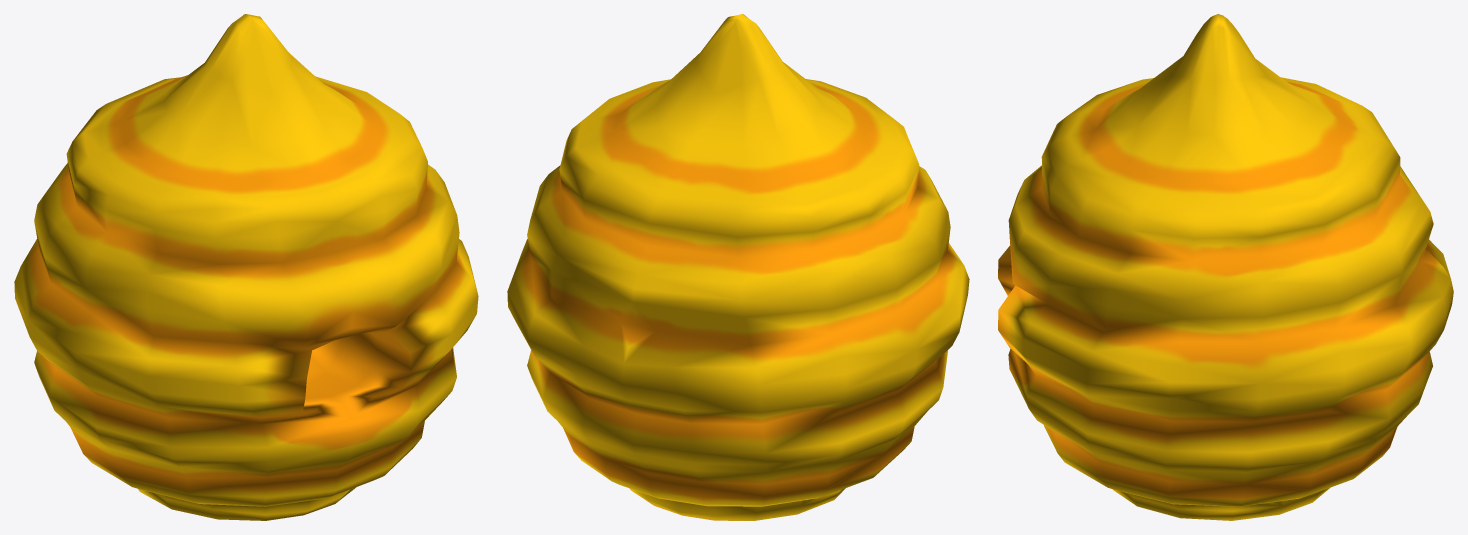
The model's file is hive.fbx.
3 views of the same model, side by side, from view 1: azimuth 30°, elevation 25°; view 2: azimuth 150°, elevation 25°; view 3: azimuth 270°, elevation 25° (orthographic).
Visible parts, largest first — view 1: hive_unwrapped:ZBrush_defualt_group; view 2: hive_unwrapped:ZBrush_defualt_group; view 3: hive_unwrapped:ZBrush_defualt_group.
Part boxes in pixels (x1=…): hive_unwrapped:ZBrush_defualt_group: x1=14, y1=14, x2=478, y2=520; hive_unwrapped:ZBrush_defualt_group: x1=507, y1=14, x2=969, y2=520; hive_unwrapped:ZBrush_defualt_group: x1=998, y1=14, x2=1453, y2=520.
Size of the model in its own units: 19.93 by 23.84 by 19.86.
